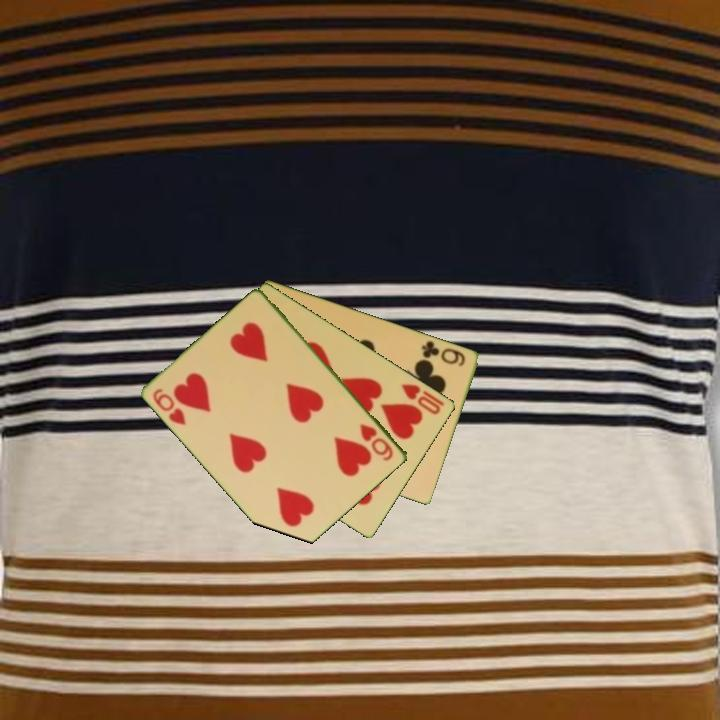10h: (398, 380, 448, 417)
6c: (418, 337, 469, 369)
6h: (356, 420, 397, 464), (149, 385, 189, 428)
